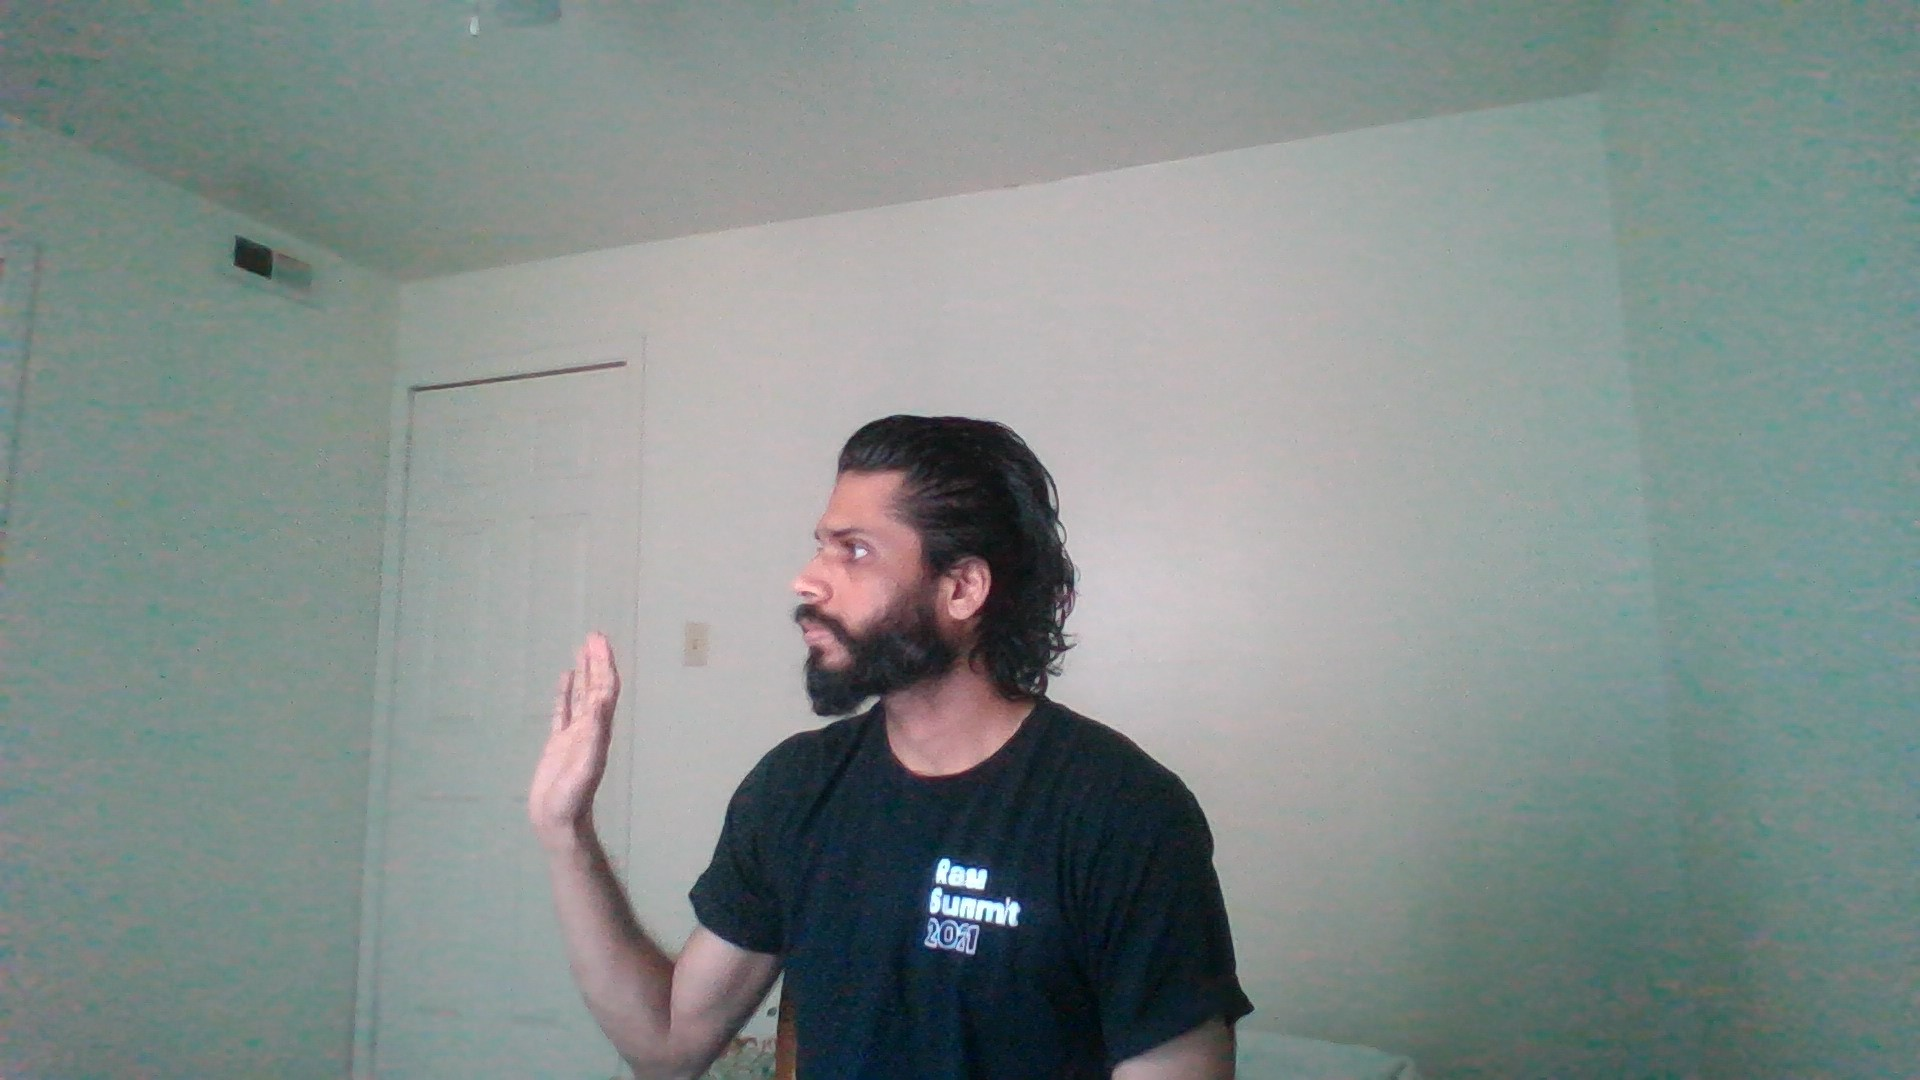Hello: (455, 603, 702, 899)
